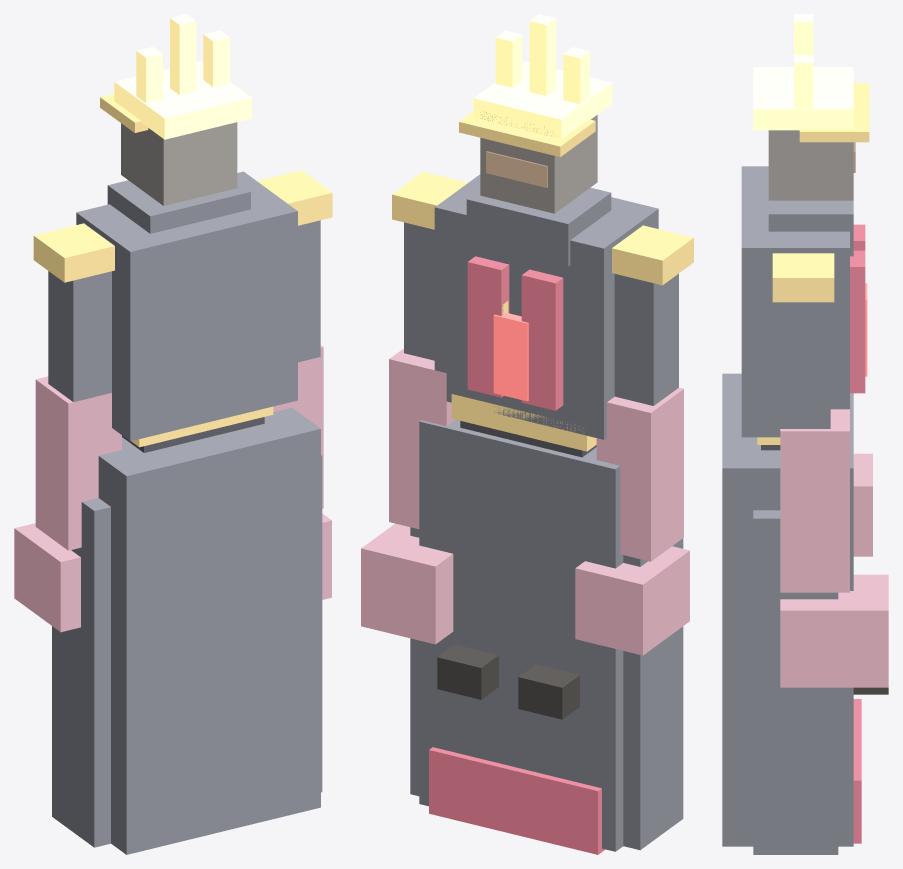
The model's file is herald_blockout.glb.
The picture shows the model from 3 angles, left to right: view 1: azimuth 30°, elevation 25°; view 2: azimuth 150°, elevation 25°; view 3: azimuth 270°, elevation 25°; orthographic projection.
Visible parts, largest first — view 1: CoatSkirt, TorsoMesh, CoatFlareL, L_ForearmMesh, L_UpperArmMesh, HeadMesh, L_FistMesh, CrownBand, Collar, L_Epaulette, R_UpperArmMesh, R_Epaulette (+9 smaller); view 2: CoatSkirt, TorsoMesh, CoatFlareL, HemLining, L_ForearmMesh, L_FistMesh, R_FistMesh, L_UpperArmMesh, R_ForearmMesh, Collar, CrownBand, HeadMesh (+16 smaller); view 3: CoatFlareR, CoatSkirt, TorsoMesh, R_ForearmMesh, R_FistMesh, R_UpperArmMesh, CrownBand, HeadMesh, R_Epaulette, Collar, LapelR, L_FistMesh (+5 smaller).
Part boxes in pixels (<box>): CoatSkirt: <box>98,407,320,854</box>; TorsoMesh: <box>76,171,297,441</box>; CoatFlareL: <box>52,498,110,847</box>; L_ForearmMesh: <box>35,376,121,550</box>; L_UpperArmMesh: <box>48,271,111,402</box>; HeadMesh: <box>121,122,237,205</box>; L_FistMesh: <box>14,523,80,632</box>; CrownBand: <box>114,60,251,139</box>; Collar: <box>107,180,250,233</box>; L_Epaulette: <box>33,223,114,282</box>; R_UpperArmMesh: <box>298,220,320,362</box>; R_Epaulette: <box>257,170,332,225</box>; CoatSkirt: <box>419,420,623,851</box>; TorsoMesh: <box>434,174,658,439</box>; CoatFlareL: <box>623,538,683,850</box>; HemLining: <box>429,747,605,854</box>; L_ForearmMesh: <box>596,387,683,561</box>; L_FistMesh: <box>575,546,689,655</box>; R_FistMesh: <box>361,523,453,644</box>; L_UpperArmMesh: <box>614,273,678,405</box>; R_ForearmMesh: <box>389,348,455,529</box>; Collar: <box>466,187,611,266</box>; CrownBand: <box>473,61,612,139</box>; HeadMesh: <box>480,111,597,213</box>; CoatFlareR: <box>753,510,838,854</box>; CoatSkirt: <box>722,373,853,846</box>; TorsoMesh: <box>741,166,849,437</box>; R_ForearmMesh: <box>780,409,849,592</box>; R_FistMesh: <box>780,574,888,687</box>; R_UpperArmMesh: <box>776,302,830,435</box>; CrownBand: <box>753,67,853,130</box>; HeadMesh: <box>768,130,853,200</box>; R_Epaulette: <box>772,253,834,302</box>; Collar: <box>768,200,853,256</box>; LapelR: <box>850,250,865,393</box>; L_FistMesh: <box>853,453,872,556</box>.
Size of the model in its own units: 0.81 by 2.24 by 0.43.
